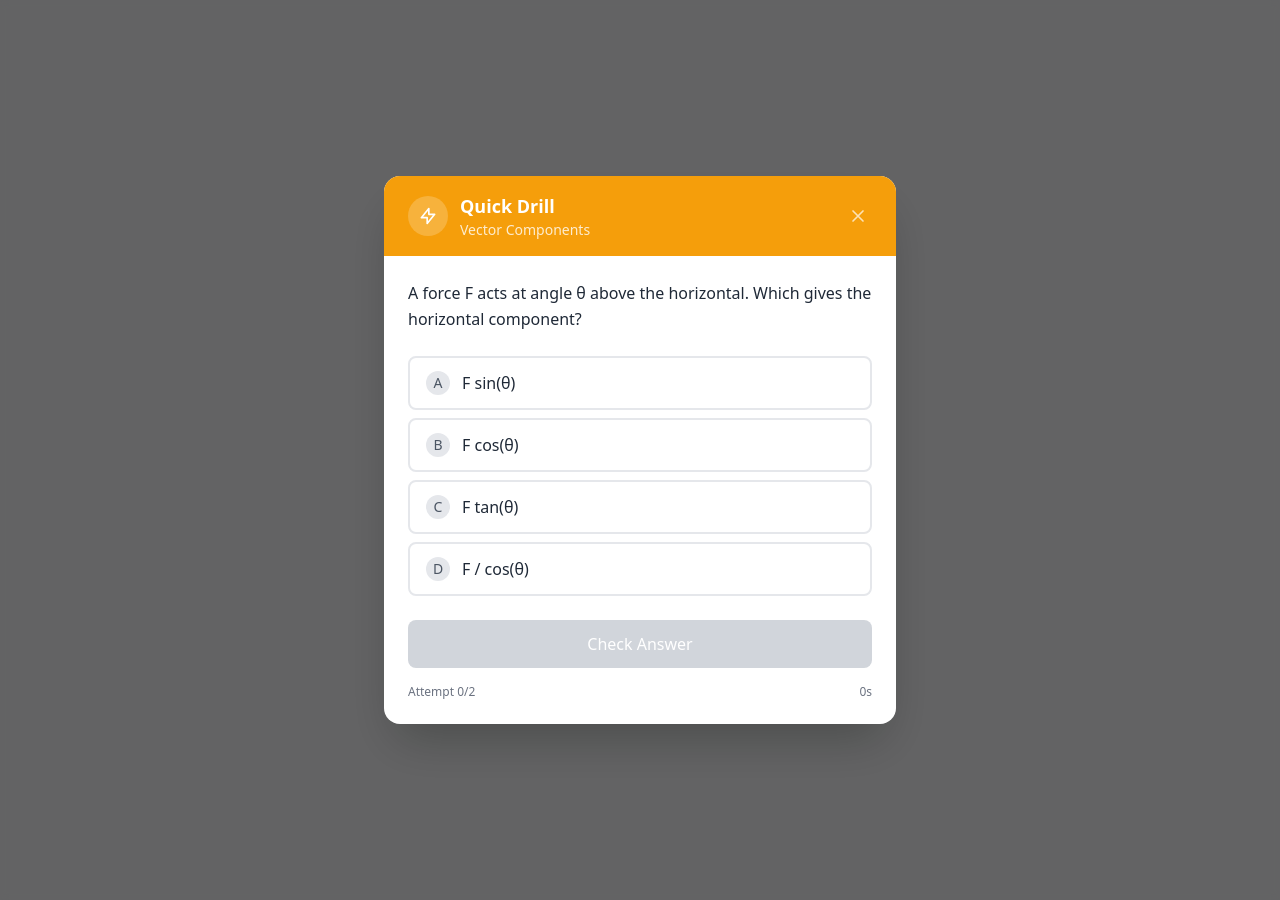
it: DrillModal › Multiple Choice Interaction › enables Check Answer button when option is selected
This screenshot has width=1280, height=900.
Click the button "A F sin(θ)" at (489, 383), box [408,356,872,410]
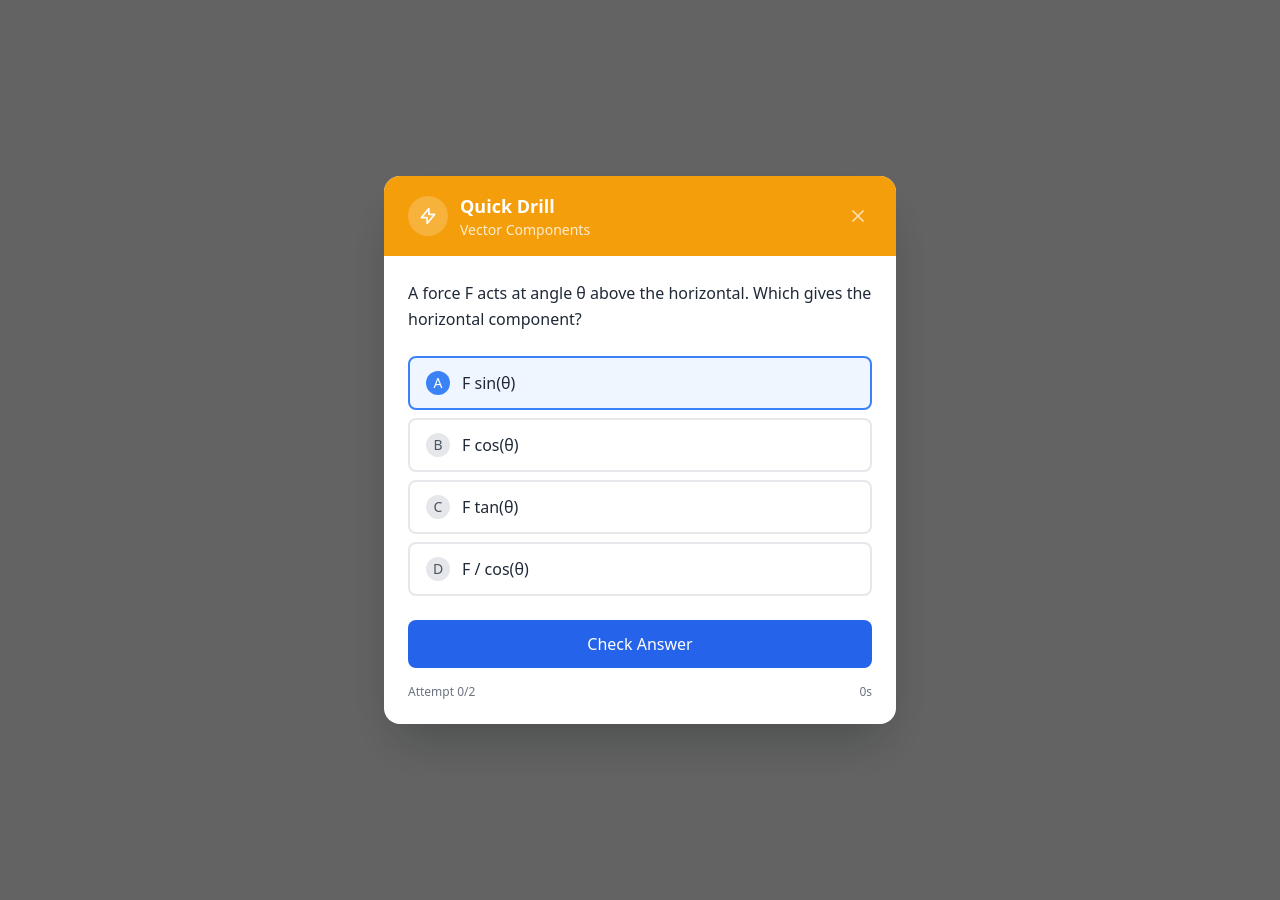
Check: the button "Check Answer" is enabled, box [408,620,872,668]
